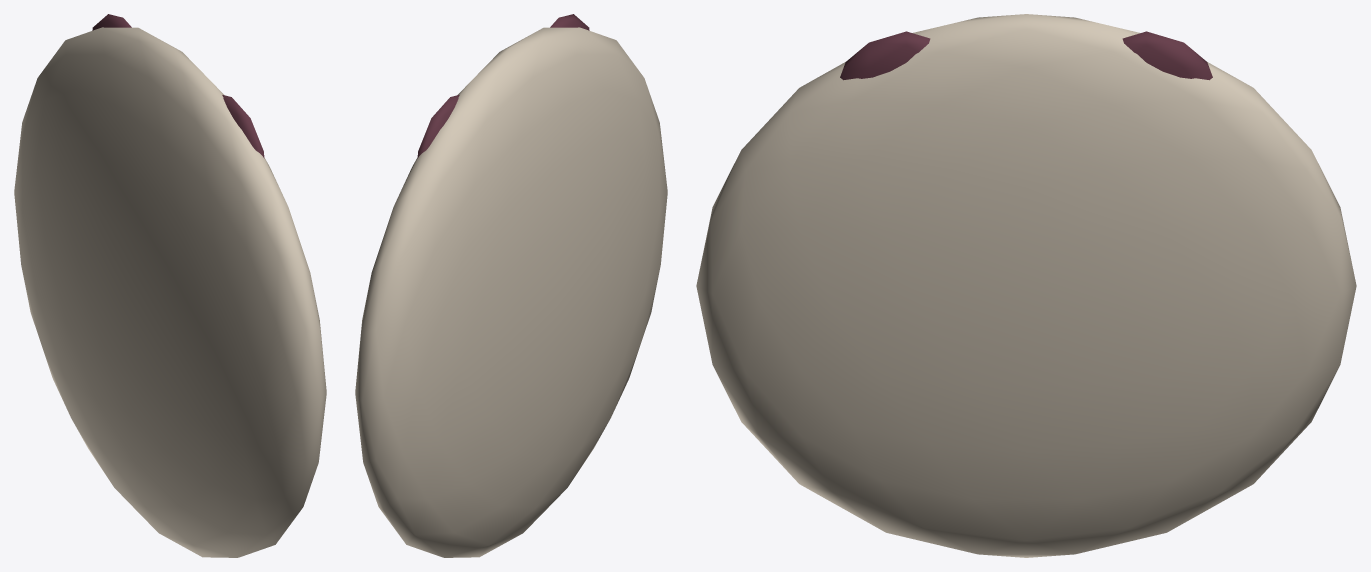
Rendered from creature.crocmaw.glb.
3 views of the same model, side by side, from view 1: azimuth 30°, elevation 25°; view 2: azimuth 150°, elevation 25°; view 3: azimuth 270°, elevation 25° (orthographic). The views are drawn at different scales.
Parts seen in each view (by area): view 1: Skin, Dark; view 2: Skin, Dark; view 3: Skin, Dark.
Part boxes in pixels (x1,y1,x2,y2): Skin: [14, 27, 326, 557]; Dark: [92, 14, 264, 158]; Skin: [355, 27, 667, 557]; Dark: [417, 14, 589, 158]; Skin: [696, 14, 1356, 557]; Dark: [840, 31, 1212, 80].
Size of the model in its own units: 0.08 by 0.4 by 0.44.
